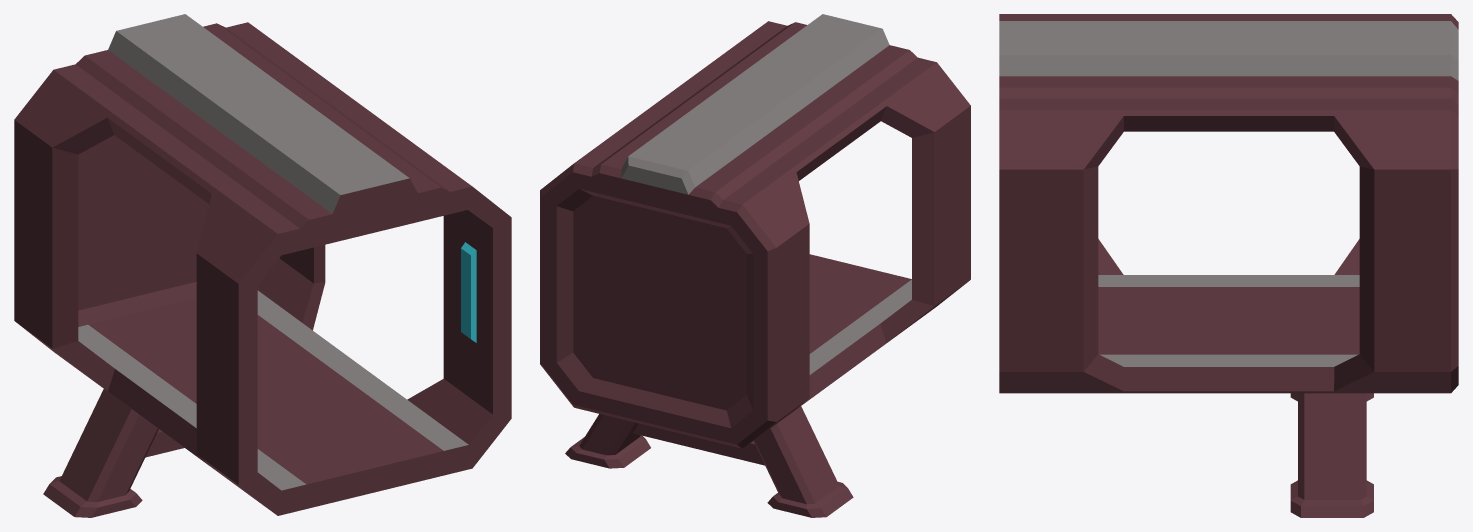
File: scifi-planet-base-hall-two-end.fbx
3 renders of one model, left to right at view 1: azimuth 30°, elevation 25°; view 2: azimuth 150°, elevation 25°; view 3: azimuth 270°, elevation 25°, orthographic. The views are drawn at different scales.
Parts seen in each view (by area): view 1: scifi-planet-base-hall-two-end; view 2: scifi-planet-base-hall-two-end; view 3: scifi-planet-base-hall-two-end.
Part boxes in pixels (x1,y1,x2,y2): scifi-planet-base-hall-two-end: [14, 14, 511, 517]; scifi-planet-base-hall-two-end: [540, 14, 970, 517]; scifi-planet-base-hall-two-end: [999, 14, 1458, 517].
Bounding box in the file's own units: 3.06 × 3.9 × 4.
